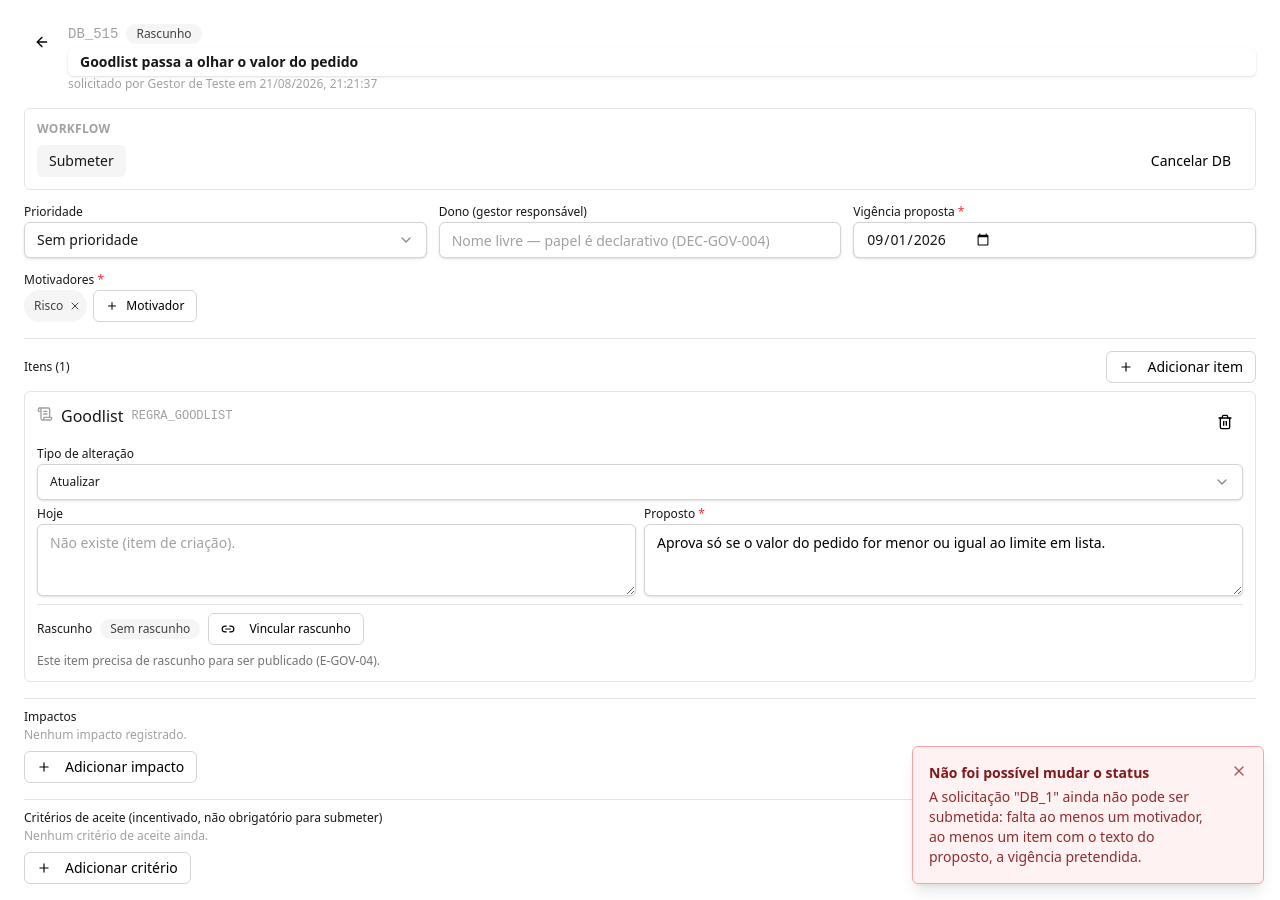
it: ChangeRequestDetail — vínculo e publicação (S36) › desvincular pede confirmação e, por padrão, não descarta o rascunho
Click the button "Vincular rascunho": (286, 629) [208,613,364,645]
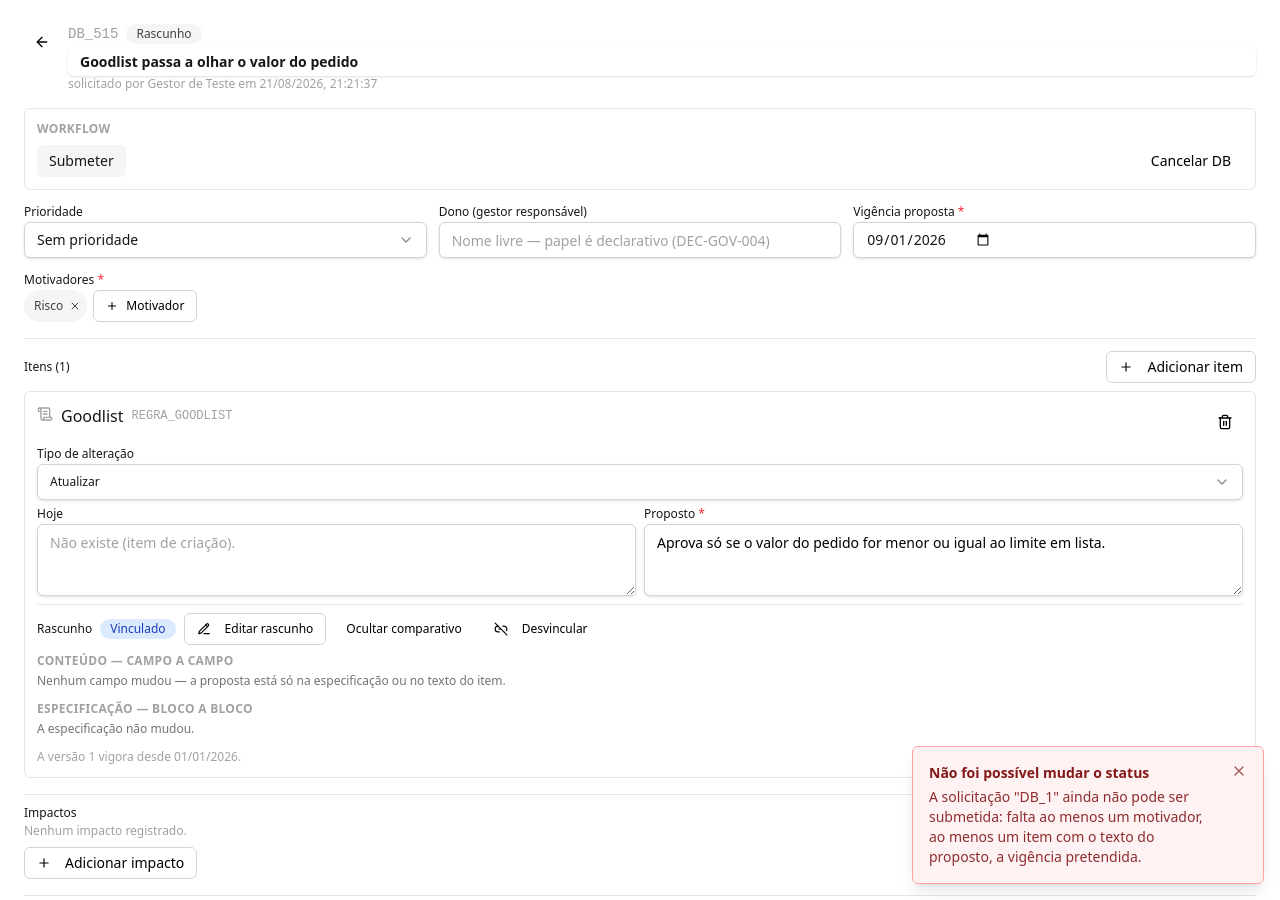
Click the button with aria-label "Desvincular o rascunho de Goodlist": (541, 629) [482,613,600,645]
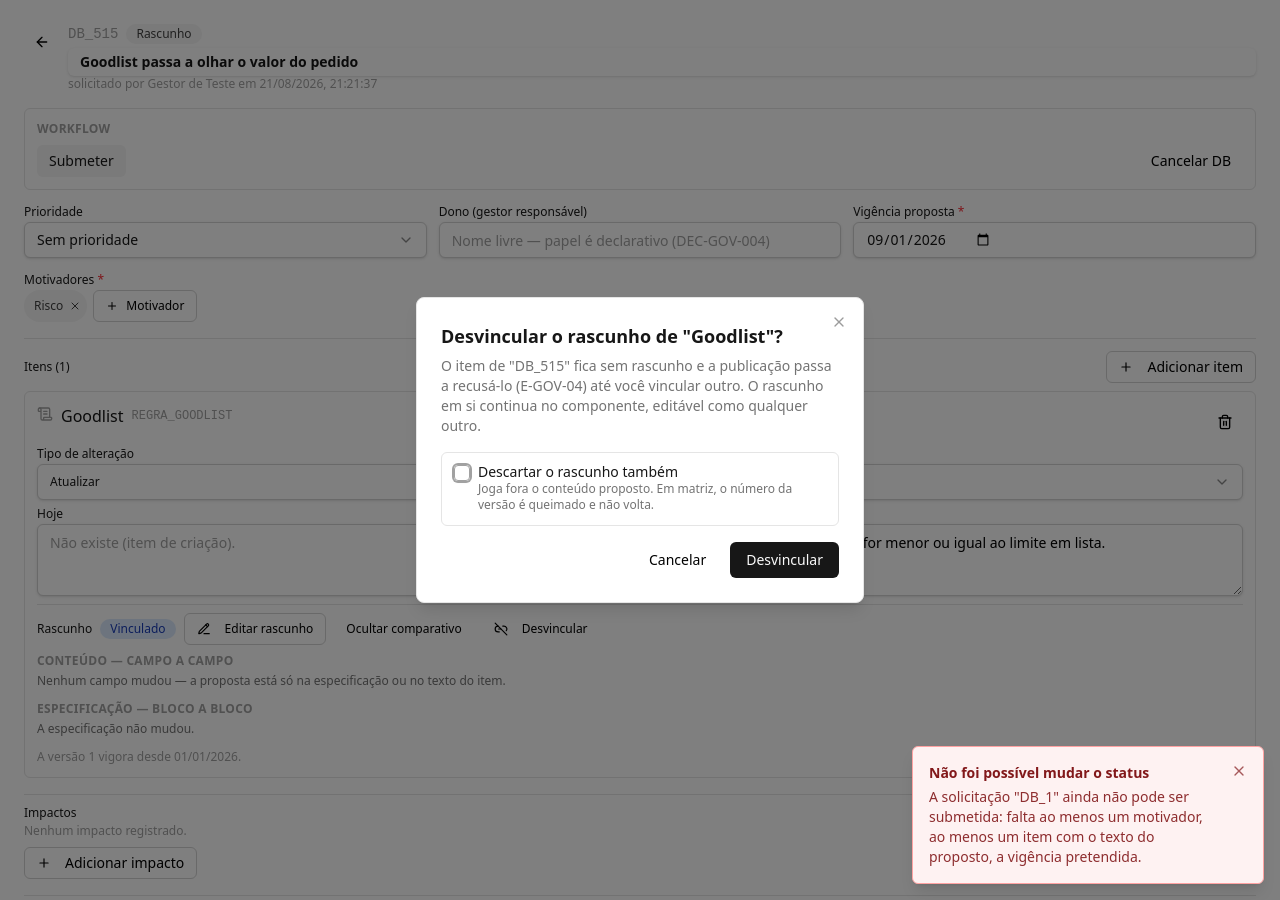
Click the button "Desvincular": (785, 560) [730,542,839,578]
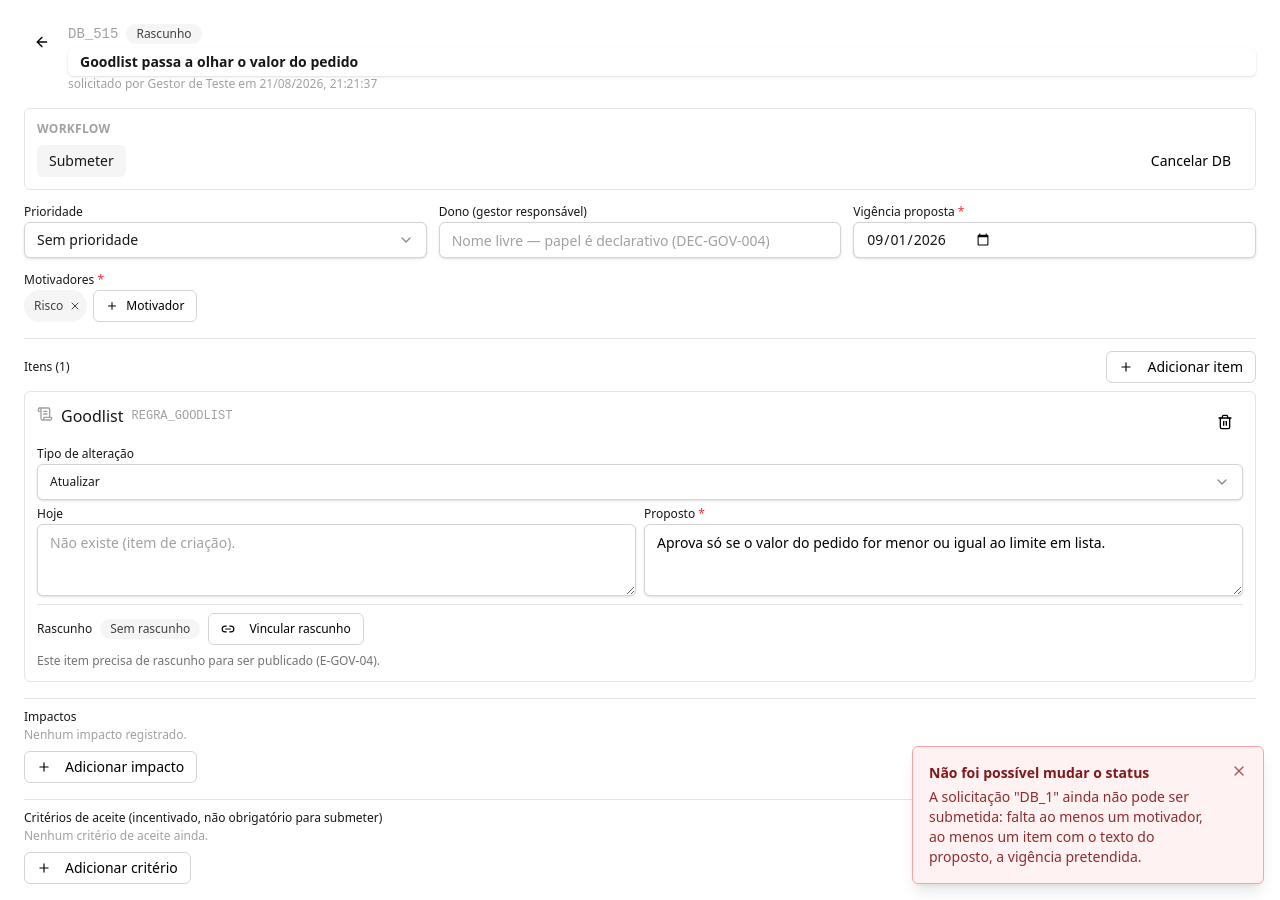
Check: the text "Sem rascunho" is shown, box [100,619,200,639]
